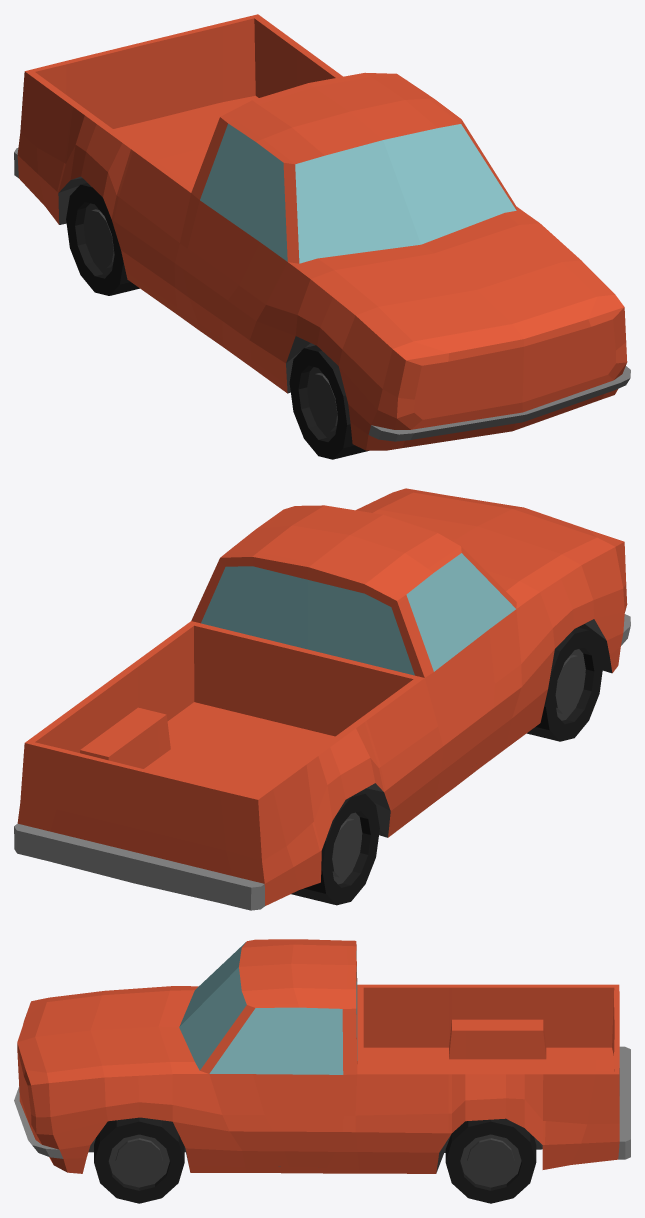
Rendered from MM_Level2_Truck.fbx.
3 views of the same model, one above another, from view 1: azimuth 30°, elevation 25°; view 2: azimuth 150°, elevation 25°; view 3: azimuth 270°, elevation 25° (orthographic). The views are drawn at different scales.
Visible parts, largest first — view 1: Truck; view 2: Truck; view 3: Truck.
Part boxes in pixels (x1=…): Truck: x1=14, y1=14, x2=630, y2=459; Truck: x1=14, y1=488, x2=630, y2=910; Truck: x1=14, y1=939, x2=630, y2=1203.
Size of the model in its own units: 440 by 374 by 1096.
